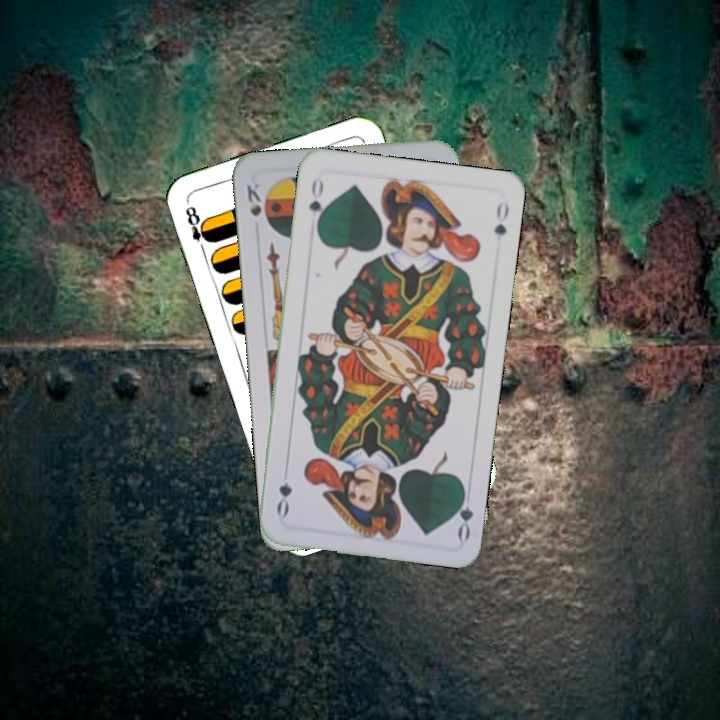E8: (181, 202, 214, 256)
GO: (449, 483, 476, 543), (304, 173, 328, 232)
SK: (243, 179, 264, 219)
